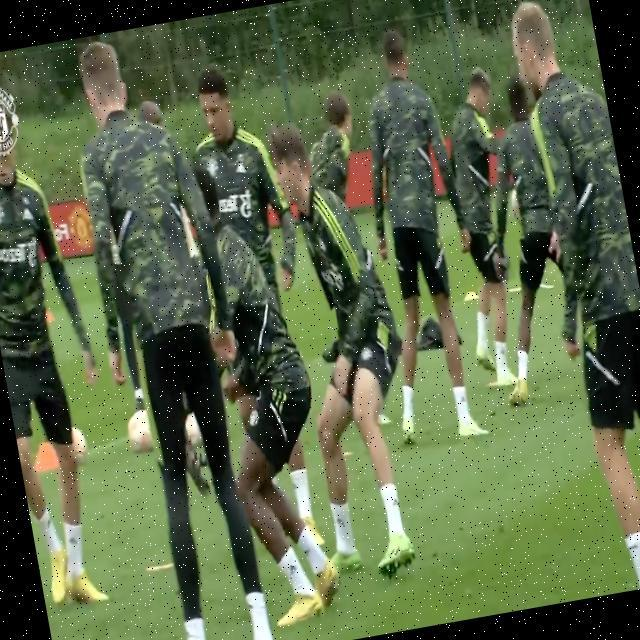Adidas: (19, 205, 34, 225), (233, 158, 248, 176), (286, 558, 298, 578), (334, 513, 346, 529), (390, 494, 400, 510)
